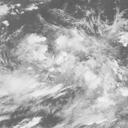cyclone: (27, 33, 112, 110)
